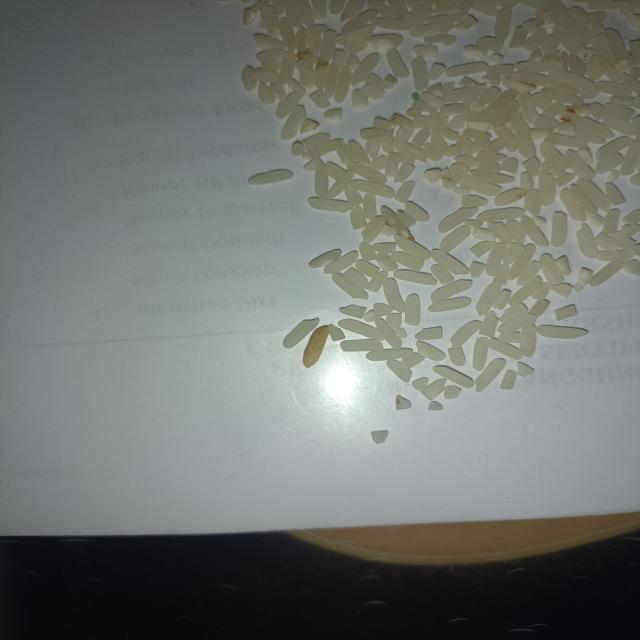Bulir_padi: (302, 322, 334, 371)
